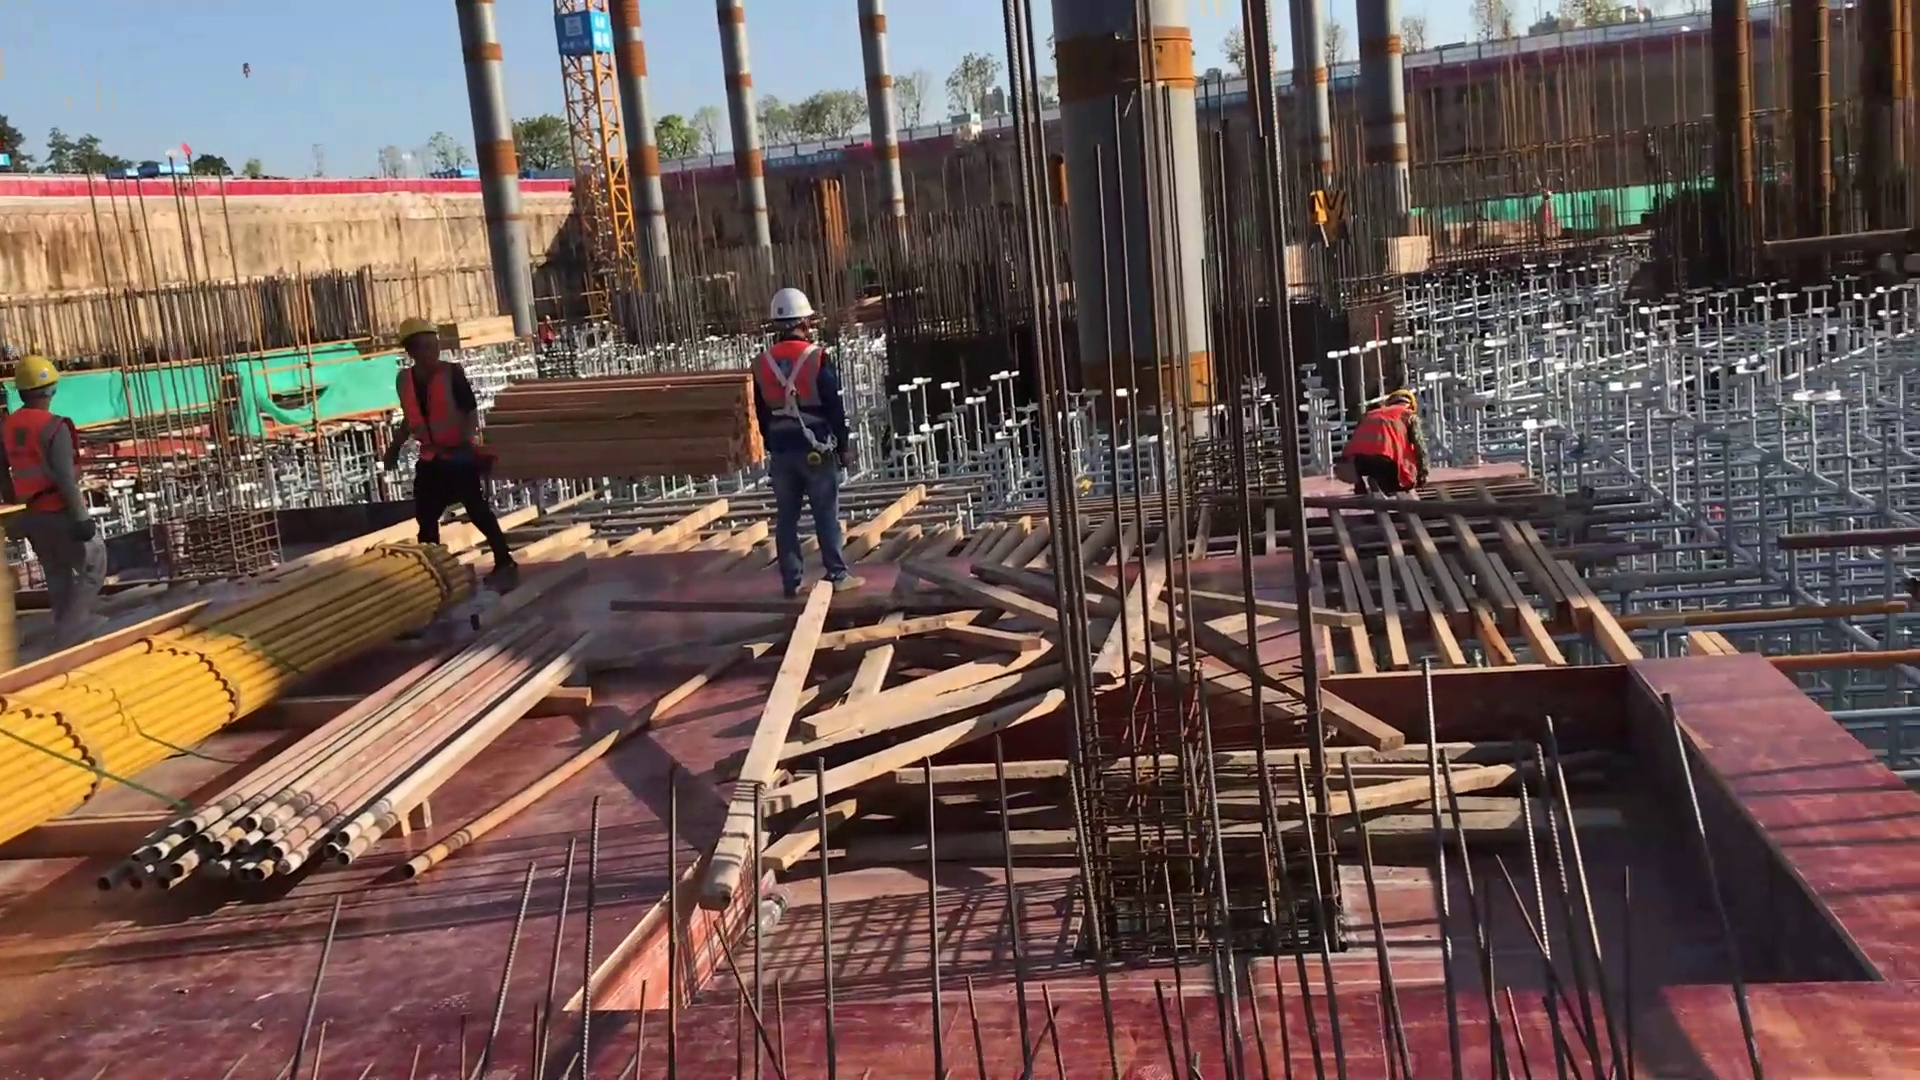helmet: (7, 354, 63, 400), (765, 286, 821, 329), (393, 311, 444, 351), (1382, 386, 1418, 413)
person: (371, 305, 531, 605), (746, 279, 879, 605), (1, 348, 115, 662), (1332, 380, 1438, 511)
vest: (749, 337, 850, 472), (393, 359, 483, 473), (1, 408, 85, 528), (1336, 404, 1424, 490)
wood: (472, 367, 762, 490)
